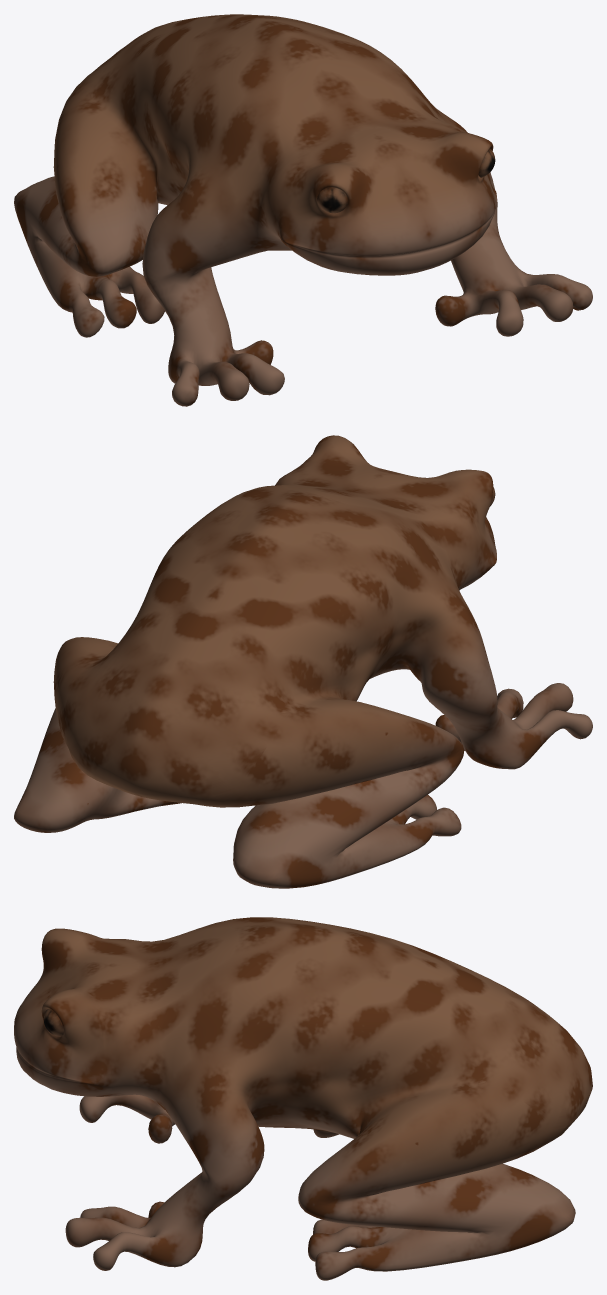
Rendered from Ranita de Cañón.glb.
3 renders of one model, top to bottom at view 1: azimuth 30°, elevation 25°; view 2: azimuth 150°, elevation 25°; view 3: azimuth 270°, elevation 25°, orthographic. The views are drawn at different scales.
Visible parts, largest first — view 1: Ranita de Cañón; view 2: Ranita de Cañón; view 3: Ranita de Cañón.
Boxes of the visible parts, x1,y1,x2,y2 form: Ranita de Cañón: (14, 14, 592, 406); Ranita de Cañón: (14, 435, 592, 888); Ranita de Cañón: (14, 917, 592, 1280).
Bounding box in the file's own units: 2.47 × 1.54 × 3.05.
Materials: 1 (1 with a texture image).
